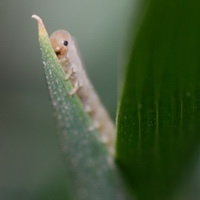insect: (32, 15, 114, 156), (32, 15, 78, 94), (50, 30, 80, 93)
